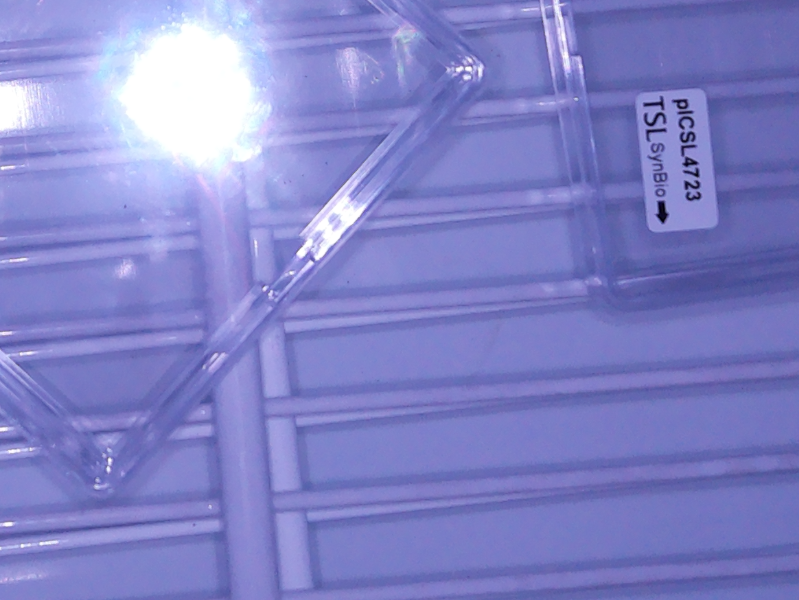plate: (1, 1, 491, 505), (537, 1, 799, 315)
